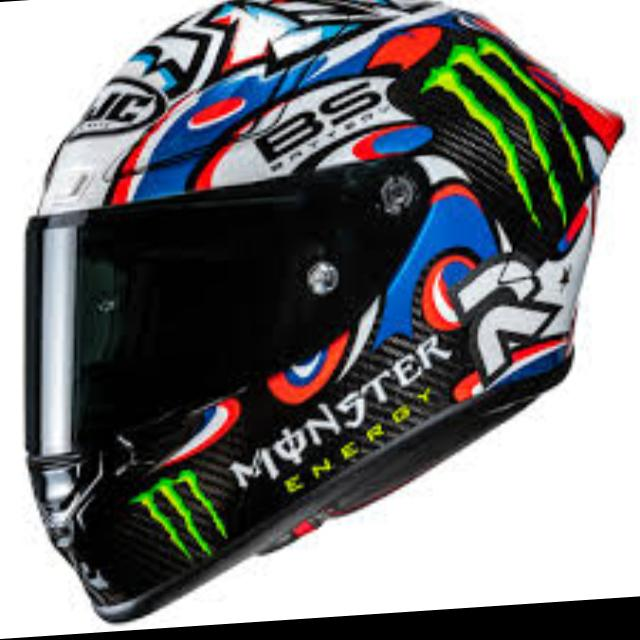motorcycle-helmets: (16, 0, 634, 629)
